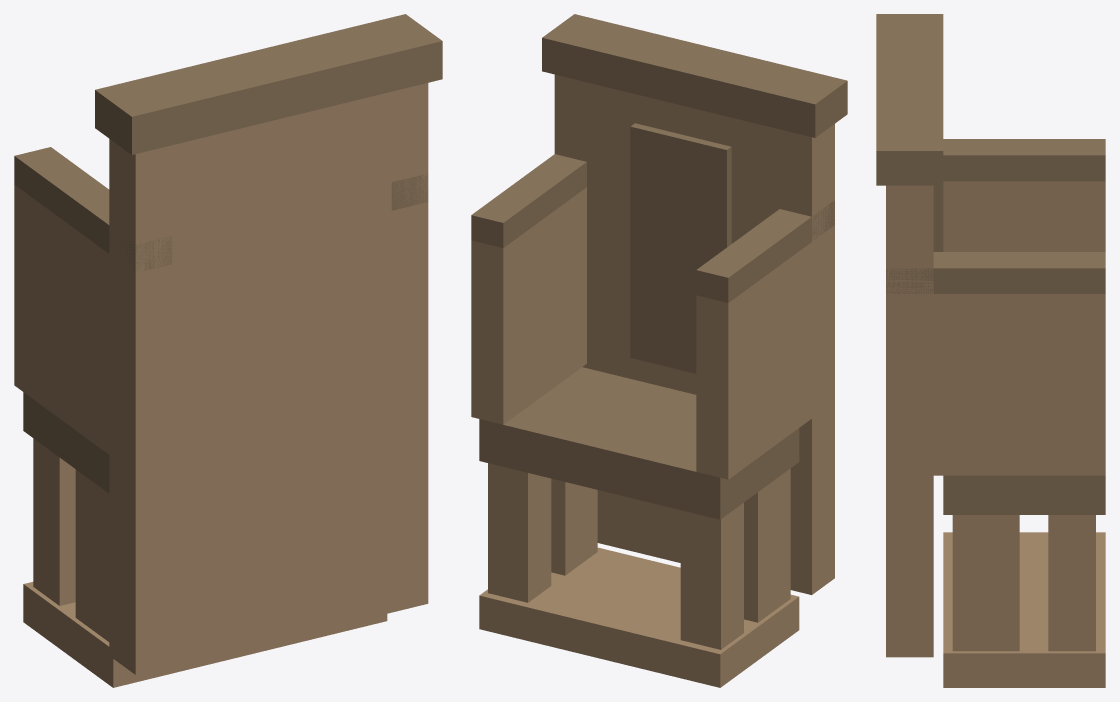
File: prop-choir-stall-wood.fbx
The picture shows the model from 3 angles, left to right: view 1: azimuth 30°, elevation 25°; view 2: azimuth 150°, elevation 25°; view 3: azimuth 270°, elevation 25°; orthographic projection. The views are drawn at different scales.
Parts seen in each view (by area): view 1: prop-choir-stall-wood; view 2: prop-choir-stall-wood; view 3: prop-choir-stall-wood.
Boxes of the visible parts, <box> form: prop-choir-stall-wood: <box>14,14,442,687</box>; prop-choir-stall-wood: <box>471,14,847,687</box>; prop-choir-stall-wood: <box>876,14,1105,687</box>.
Size of the model in its own units: 0.68 by 1.26 by 0.48.
